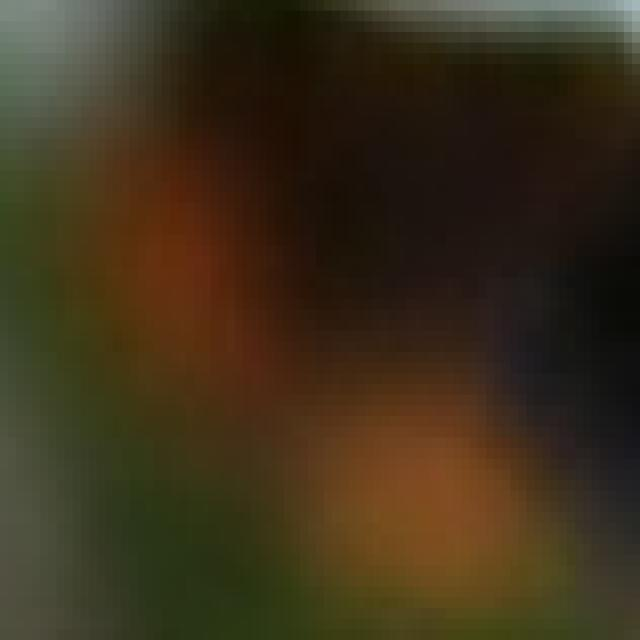fish: (8, 0, 640, 630)
